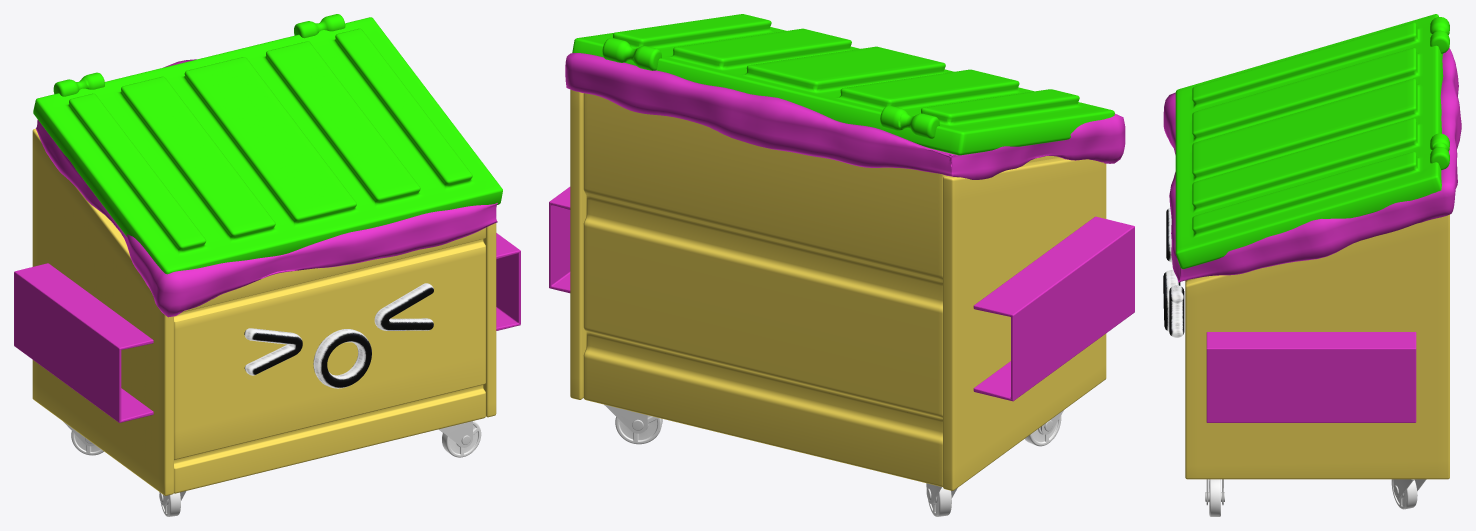
The picture shows the model from 3 angles, left to right: view 1: azimuth 30°, elevation 25°; view 2: azimuth 150°, elevation 25°; view 3: azimuth 270°, elevation 25°; orthographic projection. The views are drawn at different scales.
Parts seen in each view (by area): view 1: Dumpster Geometry, Wheel Holder; view 2: Dumpster Geometry, Wheel Holder; view 3: Dumpster Geometry, Wheel Holder.
Boxes of the visible parts, <box> form: Dumpster Geometry: <box>14,14,520,516</box>; Wheel Holder: <box>63,421,472,505</box>; Dumpster Geometry: <box>549,14,1134,516</box>; Wheel Holder: <box>604,404,1063,503</box>; Dumpster Geometry: <box>1163,14,1461,516</box>; Wheel Holder: <box>1205,479,1426,505</box>.
Size of the model in its own units: 2.3 by 1.97 by 1.49.
Materials: 7 (2 with a texture image).
